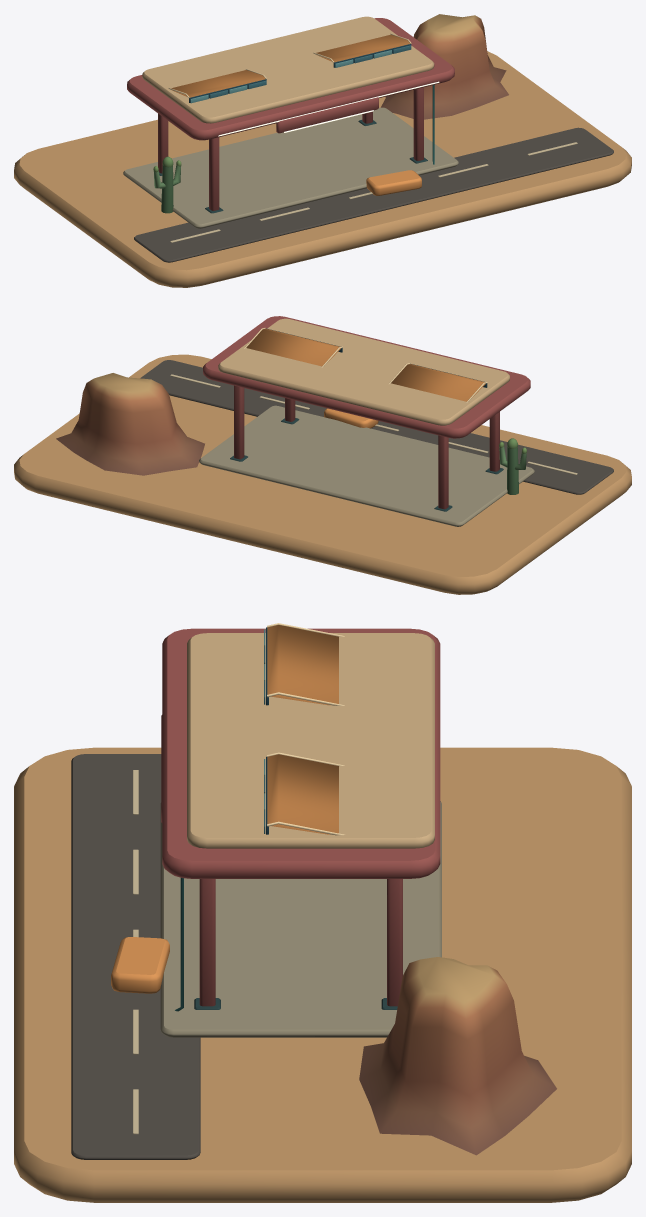
Rendered from route66_atlas.glb.
3 views of the same model, one above another, from view 1: azimuth 30°, elevation 25°; view 2: azimuth 150°, elevation 25°; view 3: azimuth 270°, elevation 25° (orthographic). The views are drawn at different scales.
Parts seen in each view (by area): view 1: Route66Atlas; view 2: Route66Atlas; view 3: Route66Atlas.
Boxes of the visible parts, x1,y1,x2,y2 form: Route66Atlas: (14,14,631,287); Route66Atlas: (14,316,631,594); Route66Atlas: (14,623,631,1202).
Bounding box in the file's own units: 10.8 × 2.75 × 6.54.
